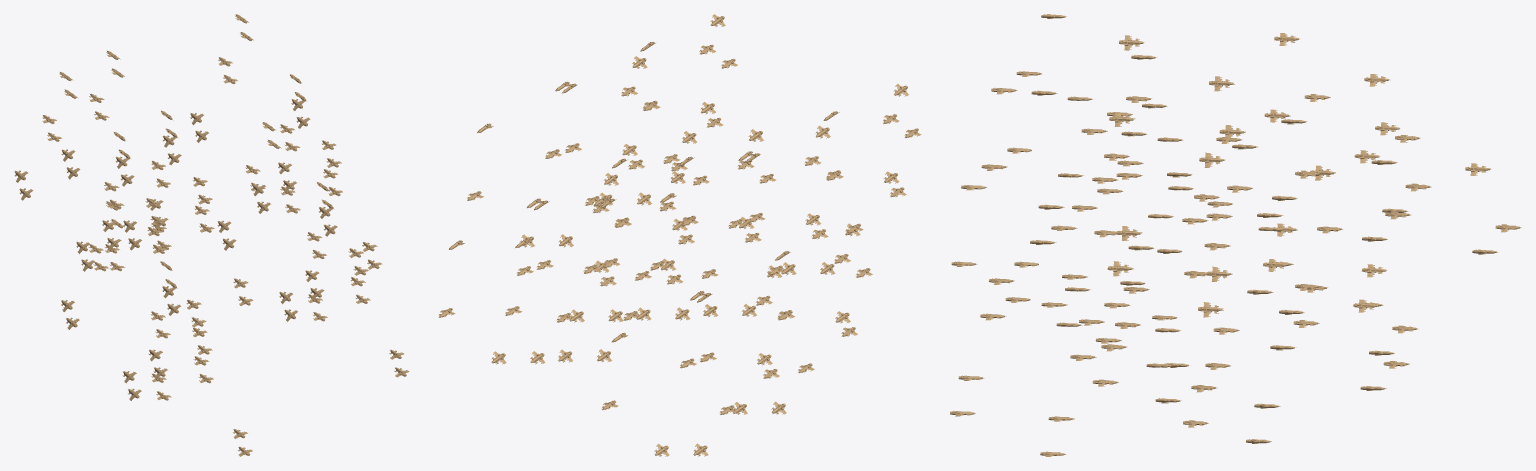
The model's file is squadron.glb.
3 views of the same model, side by side, from view 1: azimuth 30°, elevation 25°; view 2: azimuth 150°, elevation 25°; view 3: azimuth 270°, elevation 25° (orthographic). The views are drawn at different scales.
Bounding box in the file's own units: 0.8023 × 0.8337 × 1.17.
2 materials, 2 textured.
